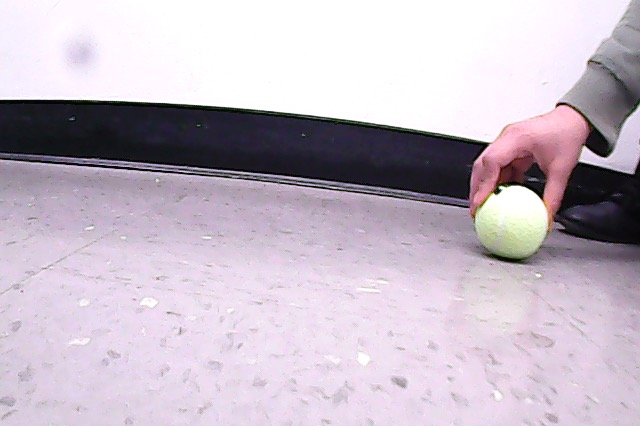ball: (474, 184, 549, 260)
